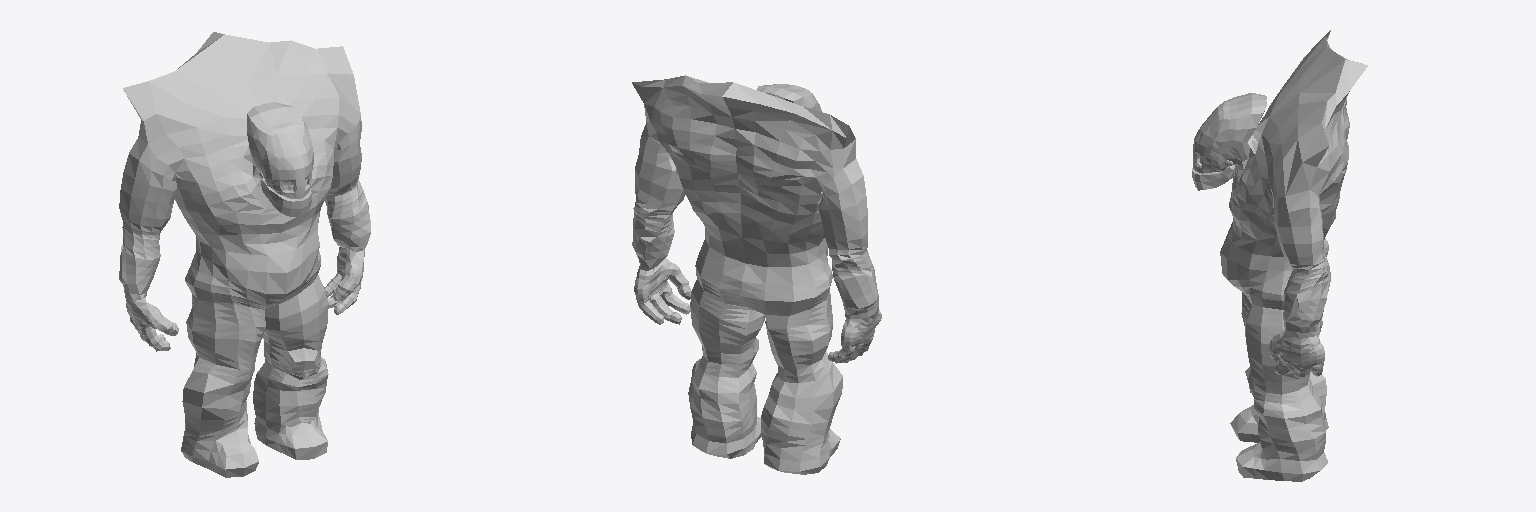
Rendered from golem_000013.obj.
The picture shows the model from 3 angles: view 1: azimuth 30°, elevation 25°; view 2: azimuth 150°, elevation 25°; view 3: azimuth 270°, elevation 25°; orthographic projection.
Visible parts, largest first — view 1: golem; view 2: golem; view 3: golem.
Part boxes in pixels (bbox=[...]): golem: bbox=[119, 32, 370, 477]; golem: bbox=[632, 75, 881, 474]; golem: bbox=[1192, 30, 1367, 481].
Size of the model in its own units: 7.35 by 11.31 by 4.6.